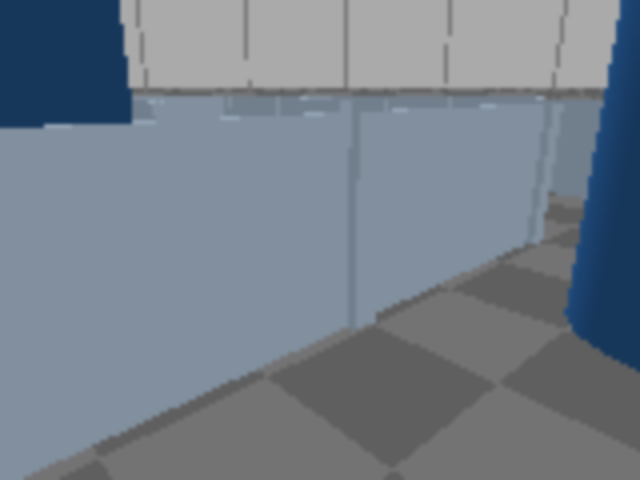person: (0, 0, 146, 333), (573, 0, 638, 384)
